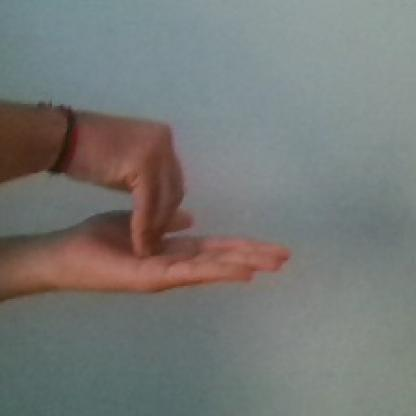Z: (61, 94, 298, 314)
